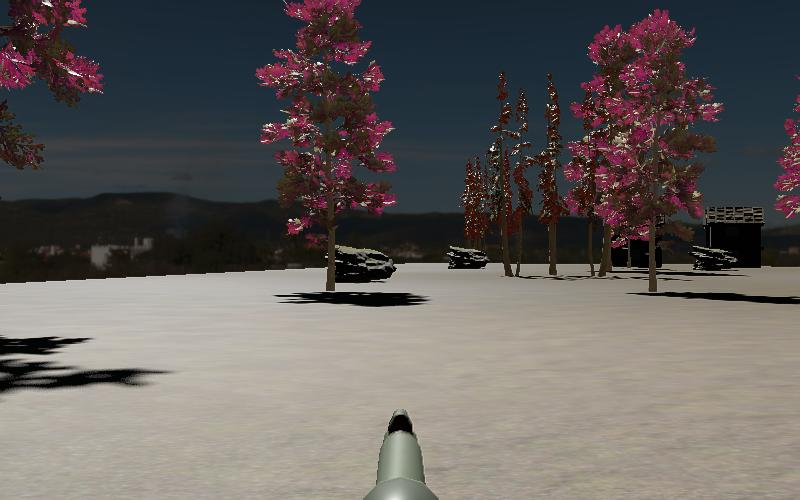House: (701, 206, 765, 268)
